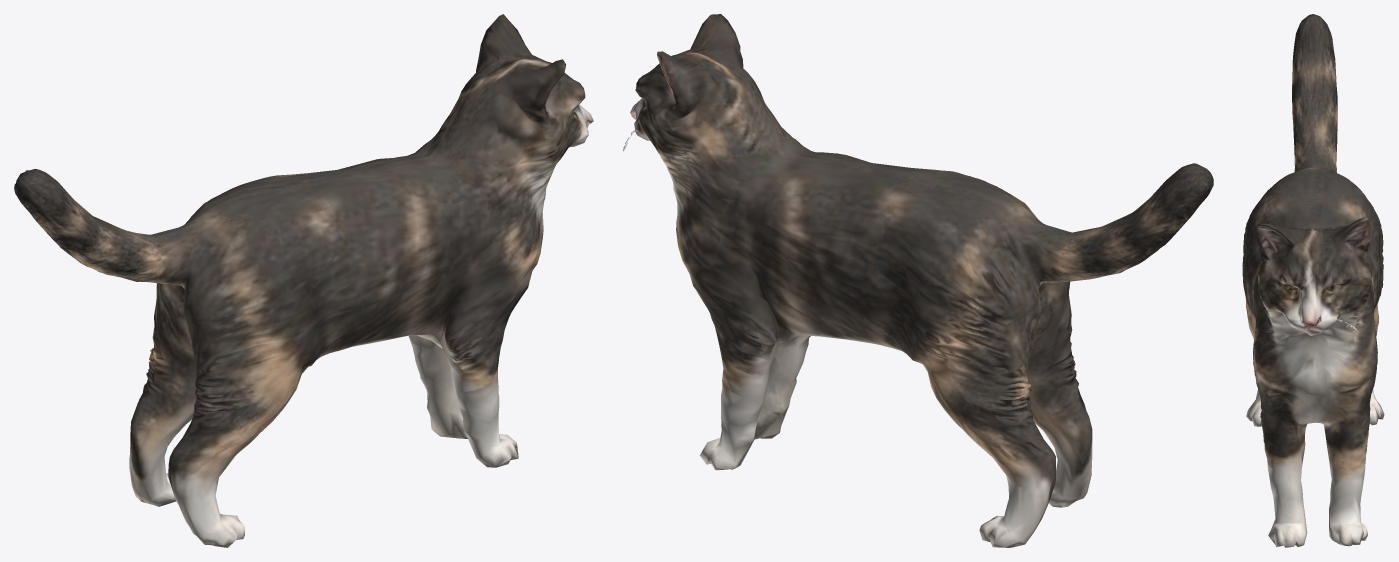
File: SINSMILE-lo.glb
The picture shows the model from 3 angles, left to right: view 1: azimuth 30°, elevation 25°; view 2: azimuth 150°, elevation 25°; view 3: azimuth 270°, elevation 25°; orthographic projection. The views are drawn at different scales.
Parts seen in each view (by area): view 1: tripo_node_9ca7d3c8-9e6f-4476-9eaa-e5f80f3c2b74; view 2: tripo_node_9ca7d3c8-9e6f-4476-9eaa-e5f80f3c2b74; view 3: tripo_node_9ca7d3c8-9e6f-4476-9eaa-e5f80f3c2b74.
Boxes of the visible parts, x1,y1,x2,y2 form: tripo_node_9ca7d3c8-9e6f-4476-9eaa-e5f80f3c2b74: (14, 14, 593, 547); tripo_node_9ca7d3c8-9e6f-4476-9eaa-e5f80f3c2b74: (623, 14, 1213, 547); tripo_node_9ca7d3c8-9e6f-4476-9eaa-e5f80f3c2b74: (1242, 14, 1384, 547).
Bounding box in the file's own units: 1.49 × 0.9981 × 0.3691.
1 material, 1 textured.
